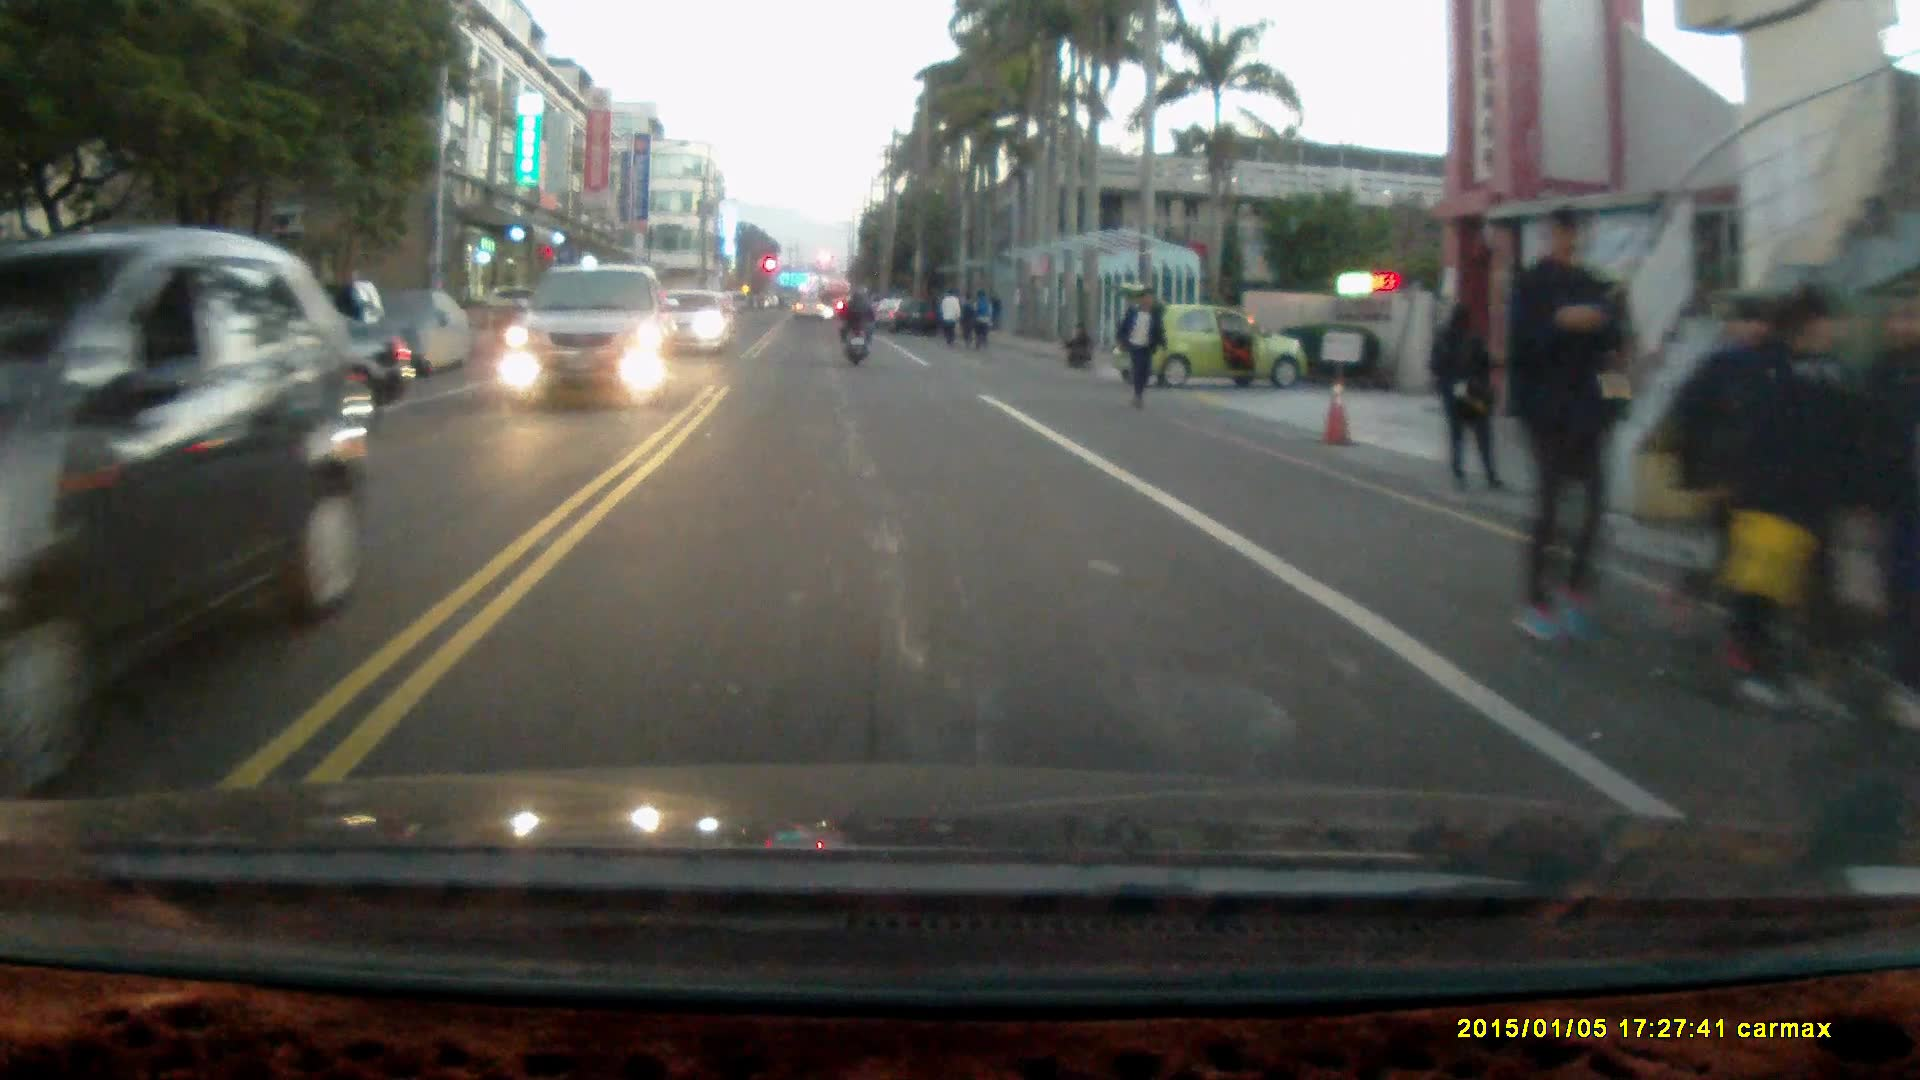pedestrian: (1717, 280, 1864, 729), (1501, 197, 1633, 650), (1845, 291, 1920, 735), (1423, 302, 1507, 500), (1114, 287, 1166, 410), (969, 287, 995, 352), (1062, 322, 1094, 369), (940, 286, 962, 351)
rider: (836, 286, 874, 367)
vehicle: (2, 225, 386, 705), (500, 266, 681, 406), (1114, 278, 1308, 391), (648, 290, 733, 357)
